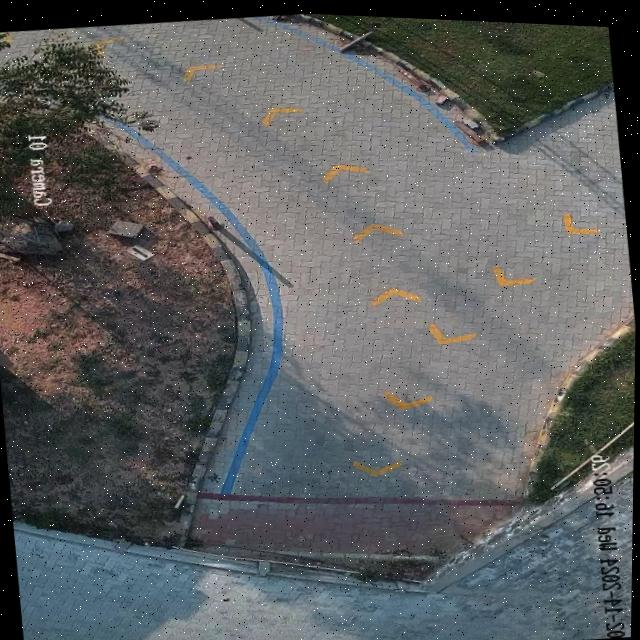No Car: (0, 11, 636, 640)
